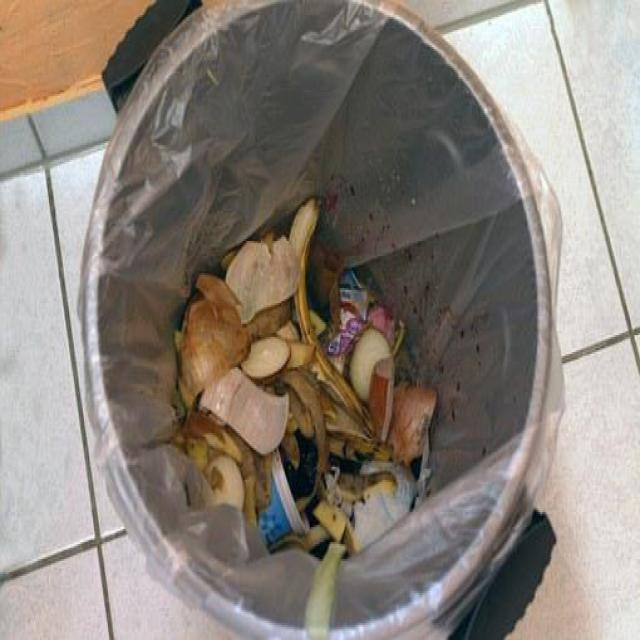Organic: (185, 240, 422, 514), (288, 190, 331, 234), (309, 514, 362, 546)
